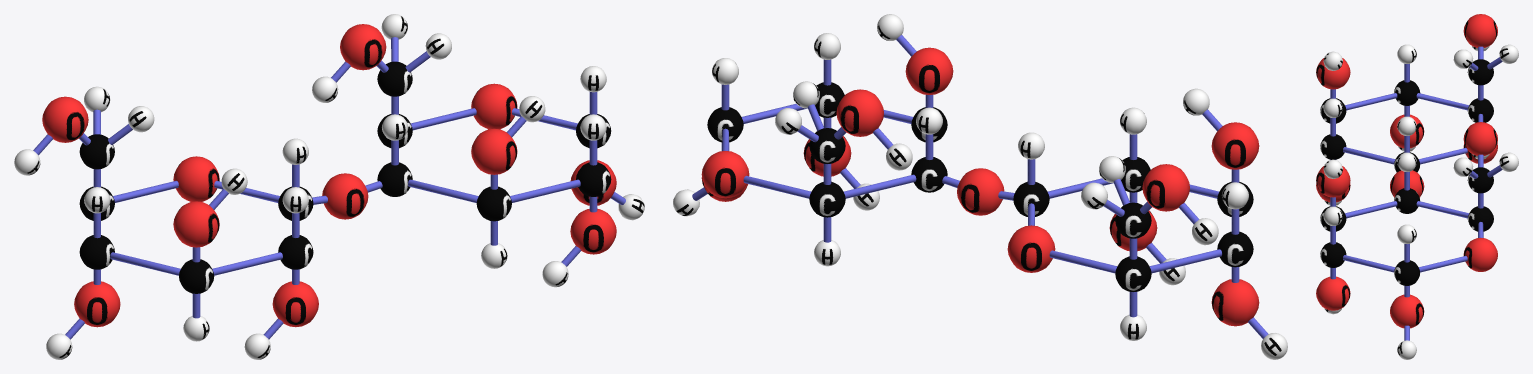
Rendered from chapter-1-section-2-maltose.glb.
3 renders of one model, left to right at view 1: azimuth 30°, elevation 25°; view 2: azimuth 150°, elevation 25°; view 3: azimuth 270°, elevation 25°, orthographic. The views are drawn at different scales.
Parts seen in each view (by area): view 1: hexagon.010, hexagon.020, hexagon.021, hexagon.011, hexagon.012, oxygen.002, oxygen.003, hexagon.016, hexagon.026, hexagon.030, hexagon.023, hexagon.018 (+9 smaller); view 2: hexagon.010, hexagon.020, hexagon.012, hexagon.011, hexagon.021, oxygen.002, oxygen.003, hexagon.030, hexagon.023, hexagon.016, hexagon.026, hexagon.028 (+9 smaller); view 3: hexagon.020, hexagon.010, hexagon.021, hexagon.011, oxygen.002, oxygen.003, hexagon.012, hexagon.030, hexagon.023, hexagon.019, hexagon.029, hexagon.022 (+4 smaller).
Boxes of the visible parts, x1=… form: hexagon.010: x1=74, y1=134, x2=318, y2=341; hexagon.020: x1=377, y1=61, x2=616, y2=268; hexagon.021: x1=408, y1=108, x2=580, y2=202; hexagon.011: x1=110, y1=180, x2=282, y2=275; hexagon.012: x1=312, y1=173, x2=382, y2=219; oxygen.002: x1=42, y1=96, x2=88, y2=142; oxygen.003: x1=340, y1=24, x2=386, y2=70; hexagon.016: x1=108, y1=106, x2=154, y2=144; hexagon.026: x1=405, y1=33, x2=451, y2=72; hexagon.030: x1=382, y1=114, x2=408, y2=165; hexagon.023: x1=282, y1=138, x2=308, y2=187; hexagon.018: x1=14, y1=134, x2=52, y2=175; hexagon.010: x1=1007, y1=107, x2=1259, y2=340; hexagon.020: x1=701, y1=33, x2=953, y2=266; hexagon.012: x1=942, y1=168, x2=1014, y2=215; hexagon.011: x1=1028, y1=178, x2=1221, y2=273; hexagon.021: x1=722, y1=104, x2=916, y2=198; oxygen.002: x1=1142, y1=164, x2=1189, y2=211; oxygen.003: x1=836, y1=89, x2=883, y2=136; hexagon.030: x1=916, y1=107, x2=942, y2=159; hexagon.023: x1=1018, y1=132, x2=1044, y2=184; hexagon.016: x1=1099, y1=156, x2=1130, y2=205; hexagon.026: x1=793, y1=81, x2=823, y2=130; hexagon.028: x1=873, y1=128, x2=912, y2=170; hexagon.020: x1=1316, y1=166, x2=1497, y2=328; hexagon.010: x1=1316, y1=44, x2=1497, y2=202; hexagon.021: x1=1343, y1=201, x2=1483, y2=272; hexagon.011: x1=1343, y1=93, x2=1483, y2=164; oxygen.002: x1=1463, y1=14, x2=1497, y2=47; oxygen.003: x1=1463, y1=122, x2=1497, y2=155; hexagon.012: x1=1390, y1=170, x2=1424, y2=197; hexagon.030: x1=1397, y1=152, x2=1416, y2=190; hexagon.023: x1=1397, y1=116, x2=1416, y2=152; hexagon.019: x1=1487, y1=44, x2=1518, y2=69; hexagon.029: x1=1487, y1=152, x2=1518, y2=177; hexagon.022: x1=1397, y1=325, x2=1416, y2=359.
Size of the model in its own units: 7.5 by 2.53 by 2.98.
Materials: 4 (3 with a texture image).
